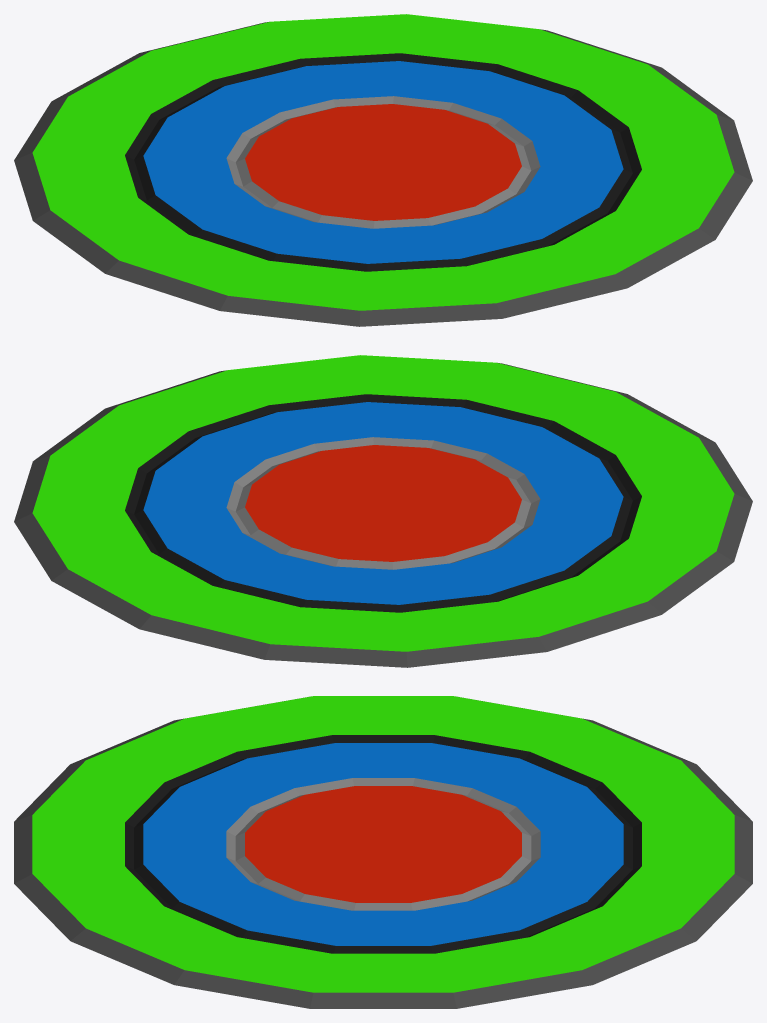
File: CircleCarpet.fbx
3 renders of one model, top to bottom at view 1: azimuth 30°, elevation 25°; view 2: azimuth 150°, elevation 25°; view 3: azimuth 270°, elevation 25°, orthographic.
Parts seen in each view (by area): view 1: object1; view 2: object1; view 3: object1.
Boxes of the visible parts, left/top/right/bottom form: object1: left=14, top=14, right=752, bottom=326; object1: left=14, top=355, right=752, bottom=667; object1: left=14, top=696, right=752, bottom=1008.
Bounding box in the file's own units: 100 × 1.25 × 100.
